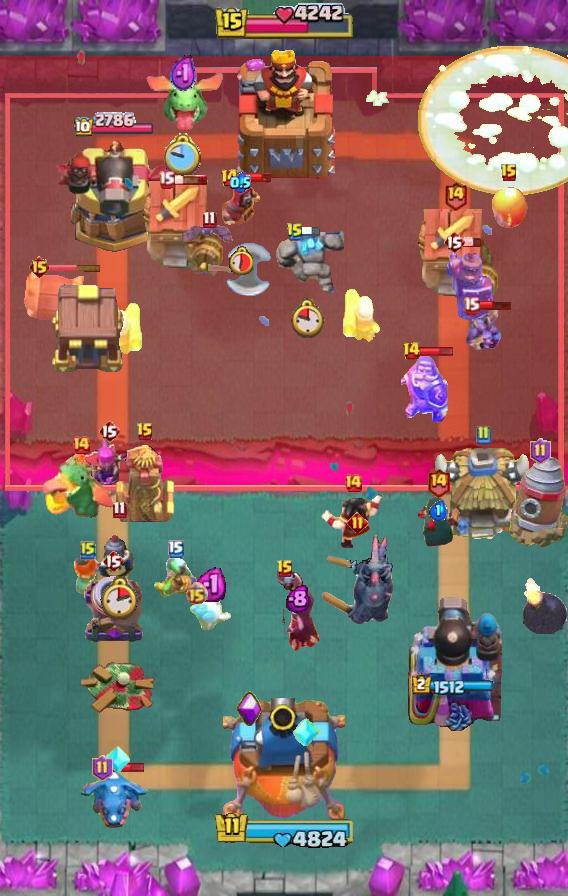archer-evolution: (80, 437, 138, 495)
axe: (208, 242, 274, 298)
bandit: (415, 496, 461, 550)
bar: (48, 263, 102, 272), (172, 174, 208, 186), (236, 172, 272, 184), (477, 300, 513, 311), (110, 762, 145, 773), (419, 346, 454, 357), (463, 237, 482, 248), (302, 226, 321, 237)
bar-level: (426, 467, 451, 498), (443, 180, 468, 211), (28, 255, 51, 279), (92, 755, 113, 781), (530, 438, 551, 464), (185, 582, 208, 605), (102, 549, 124, 573), (98, 419, 120, 443), (443, 230, 465, 254), (347, 512, 368, 533), (343, 473, 363, 493), (71, 435, 91, 455), (402, 341, 421, 361), (220, 168, 239, 188), (276, 559, 294, 579), (136, 422, 154, 442), (286, 222, 304, 242), (500, 163, 518, 183), (463, 296, 480, 315), (158, 170, 175, 189), (80, 540, 96, 560), (475, 425, 491, 445), (168, 540, 184, 558), (112, 500, 127, 519), (202, 210, 217, 229)
barbarian-barrel: (17, 271, 91, 323)
bat: (181, 221, 237, 247)
bomb: (522, 575, 568, 634)
cannoneer-tower: (53, 138, 175, 256), (404, 593, 502, 731)
clock: (164, 133, 203, 177), (100, 576, 138, 620), (291, 298, 325, 338), (228, 246, 253, 275)
electro-dragon: (78, 768, 150, 832)
electro-wizard: (320, 491, 386, 549)
elixir: (195, 565, 226, 602), (170, 54, 197, 95), (286, 584, 311, 613), (230, 172, 251, 193), (429, 500, 447, 521)
evolution-symbol: (236, 691, 262, 727)
firecracker: (102, 300, 144, 358), (341, 286, 383, 344)
golemite: (272, 229, 344, 299)
guard: (94, 524, 144, 582)
ice-spirit: (187, 596, 233, 630)
ice-spirit-evolution-symbol: (292, 715, 320, 749), (103, 744, 131, 776)
king-tower: (223, 698, 345, 826), (229, 43, 339, 181)
king-tower-bar: (210, 810, 358, 852), (213, 3, 355, 43)
knight-evolution: (401, 355, 450, 423)
minion: (461, 304, 501, 352)
mortar-evolution: (81, 575, 145, 645)
night-witch: (275, 566, 321, 654)
phoenix-egg: (489, 186, 529, 230)
spear-goblin: (151, 555, 201, 599)
tesla: (114, 443, 176, 527)
tower-bar: (73, 112, 155, 139), (412, 675, 495, 696)
valkyrie: (69, 552, 107, 604)
wizard: (218, 181, 262, 231)
